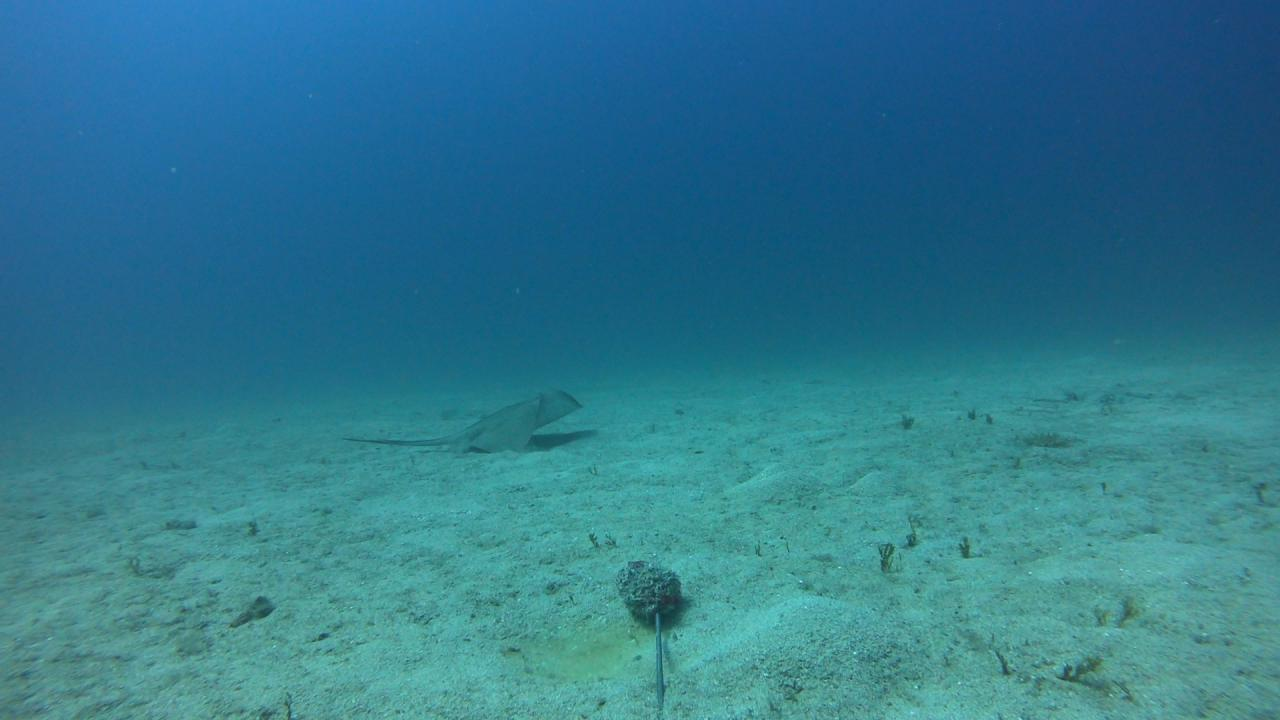dasyatis: (340, 386, 586, 455)
